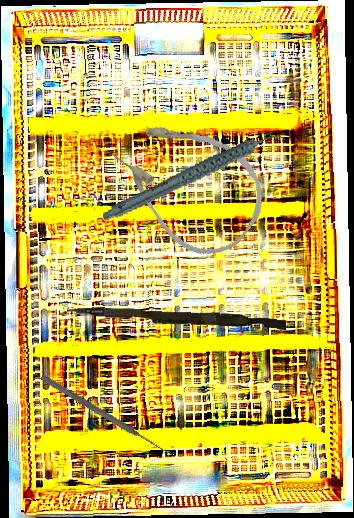Cannula: (96, 93, 283, 273)
Handpiece: (93, 132, 294, 223)
Pusher: (39, 373, 169, 456), (66, 306, 287, 330)
